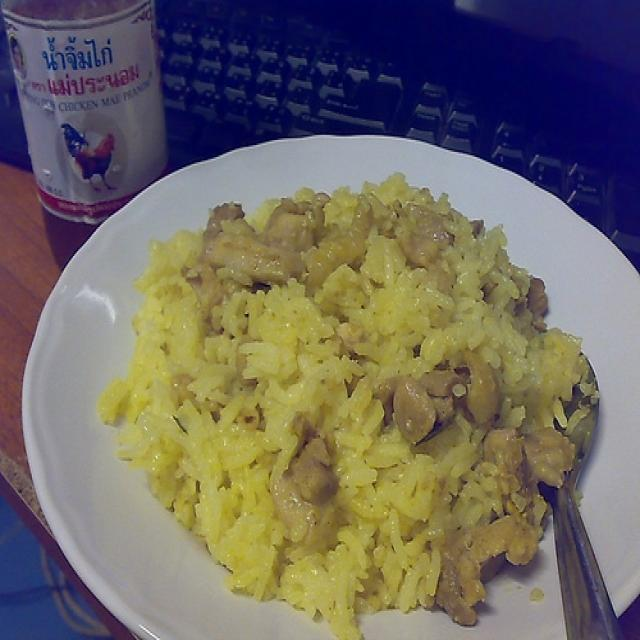米饭主食: (22, 130, 635, 633)
